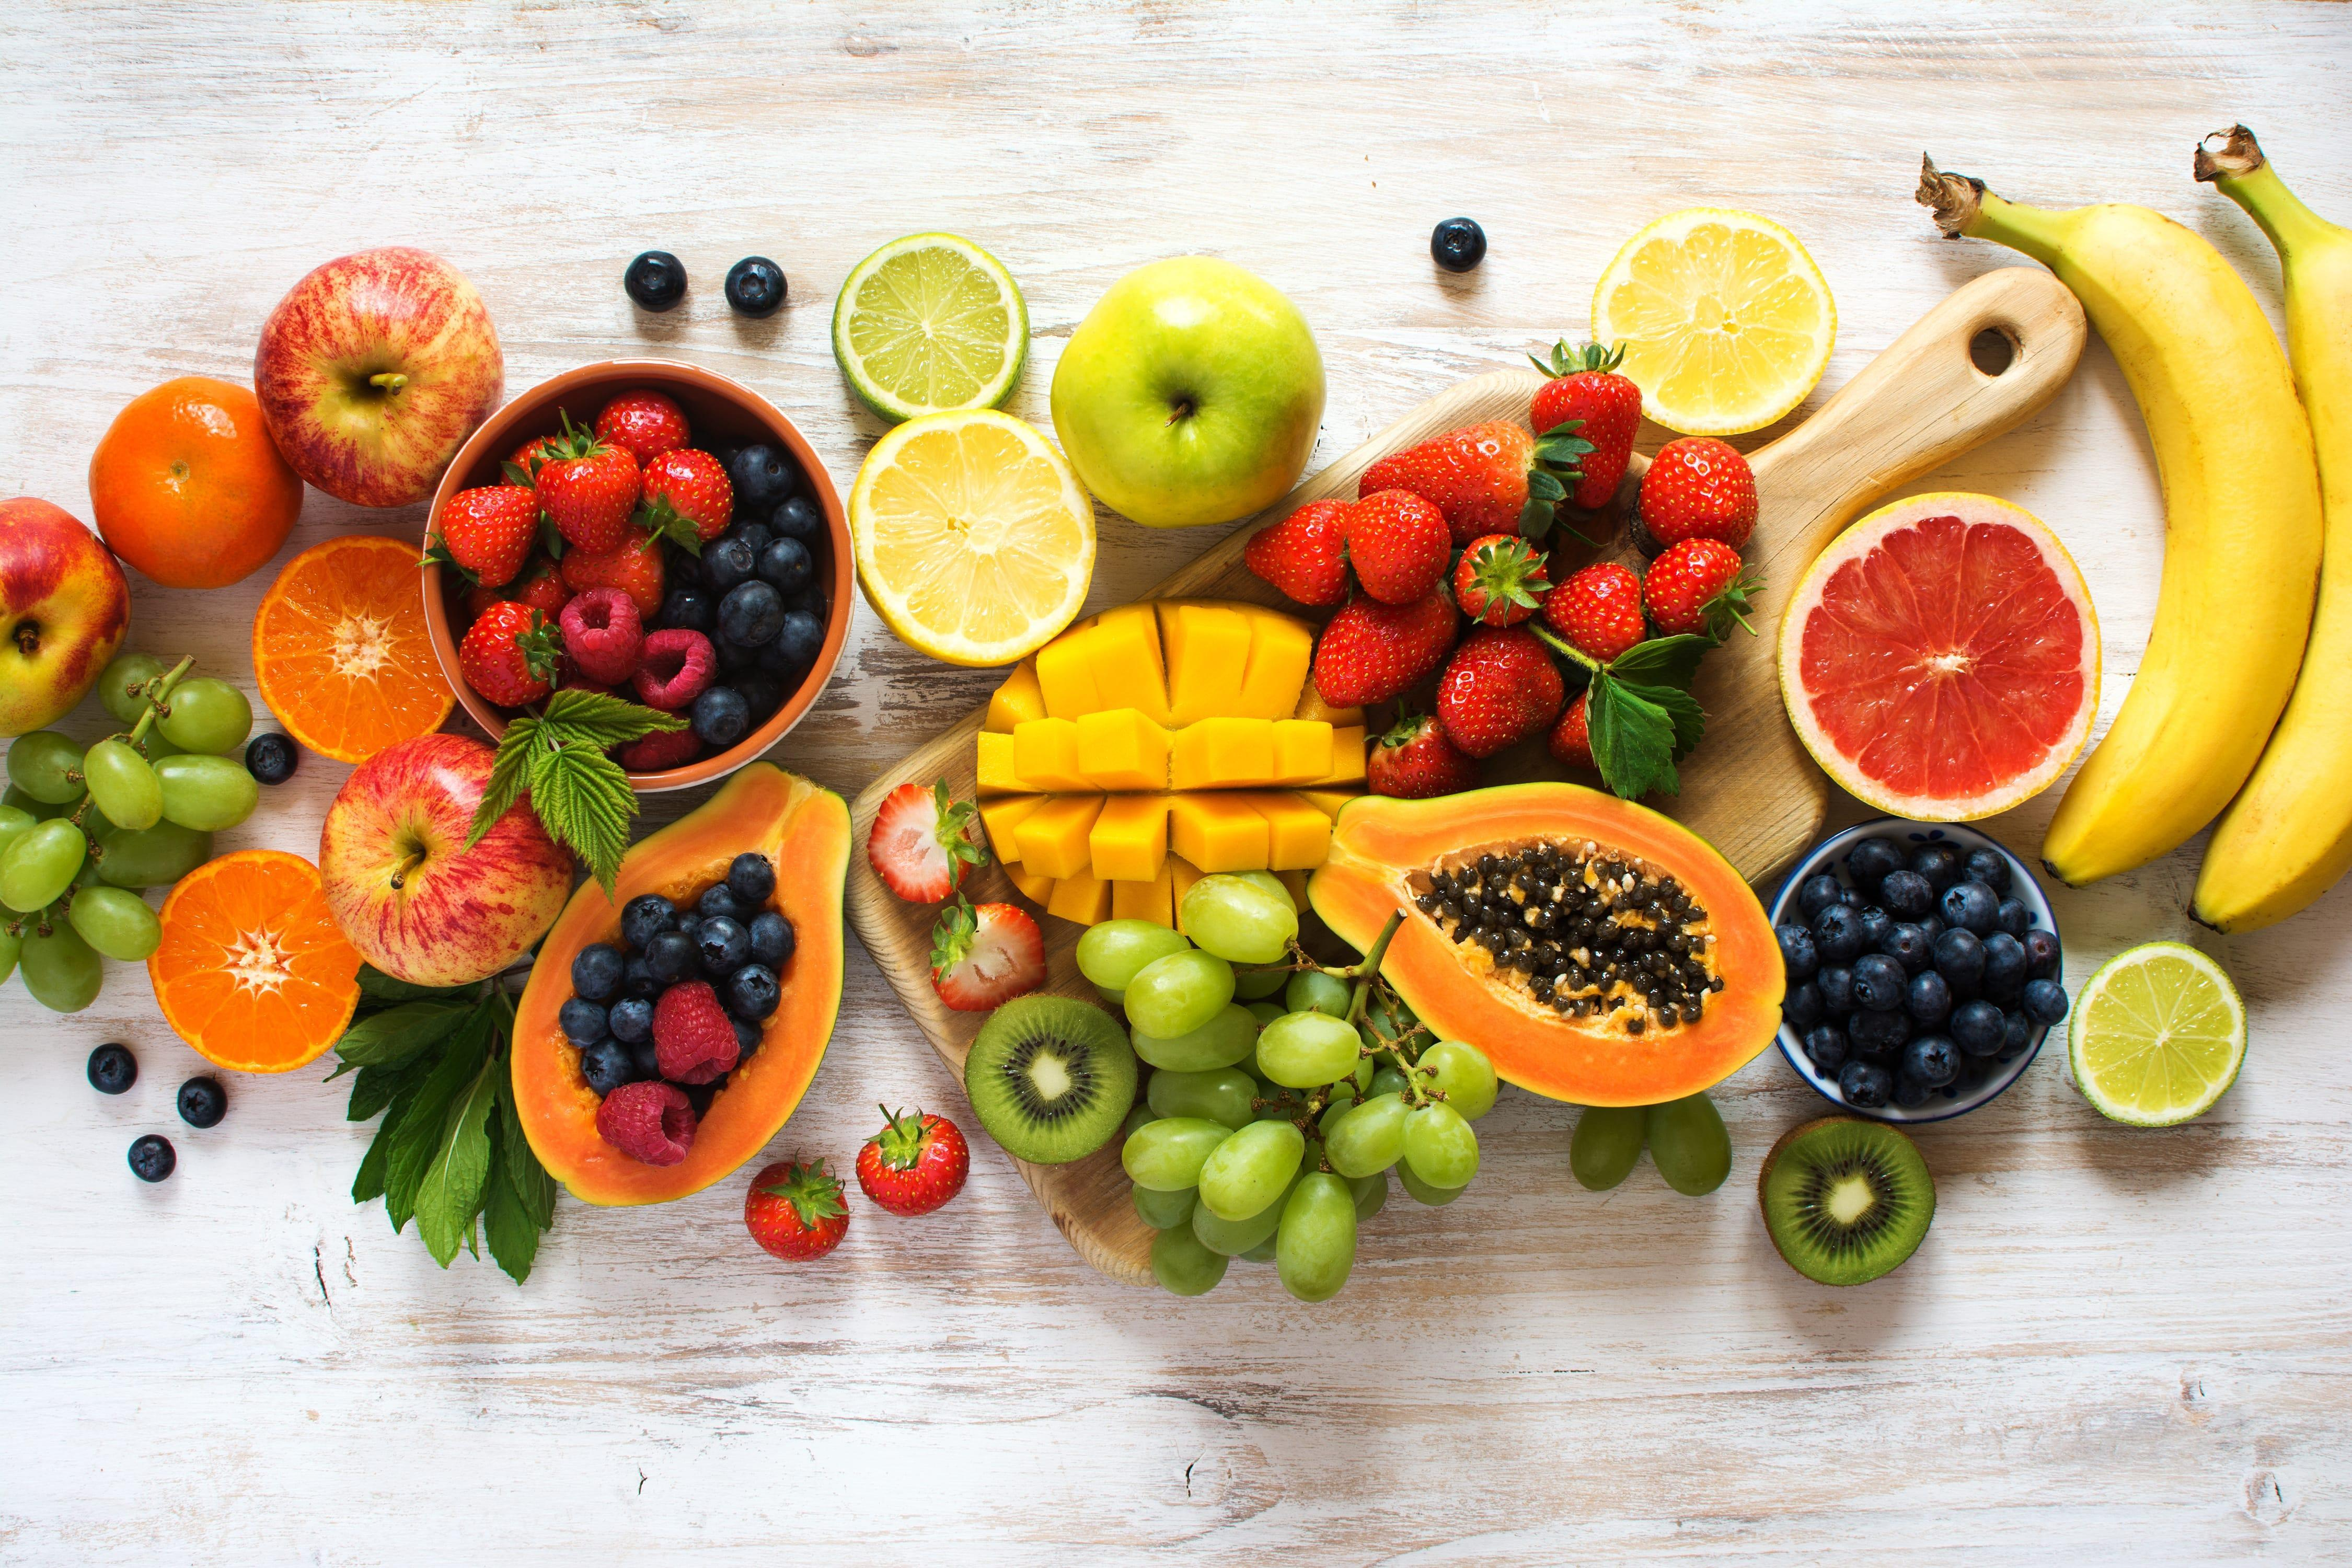apple: (1048, 254, 1330, 534), (243, 243, 507, 516), (324, 731, 576, 980), (0, 495, 129, 738), (742, 1160, 849, 1260)
